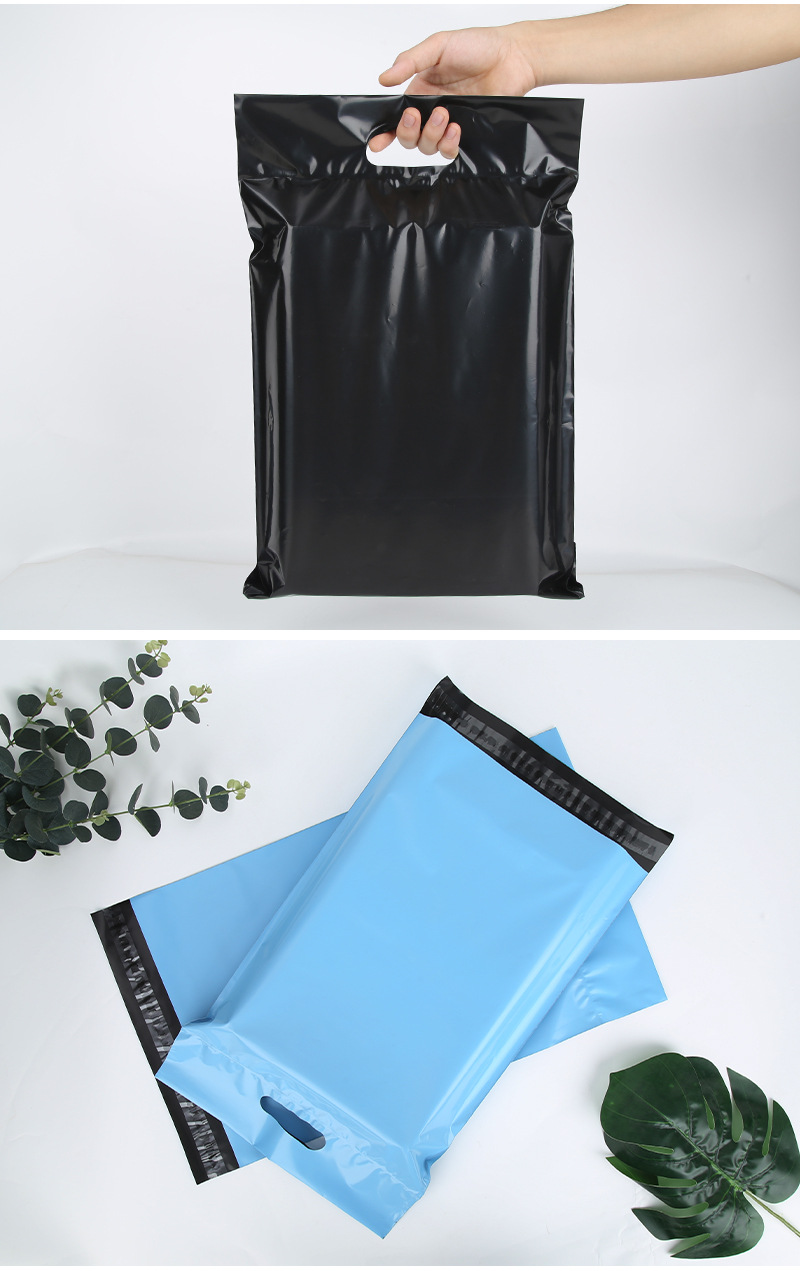塑料袋: (33, 608, 748, 1271), (235, 95, 583, 599)
